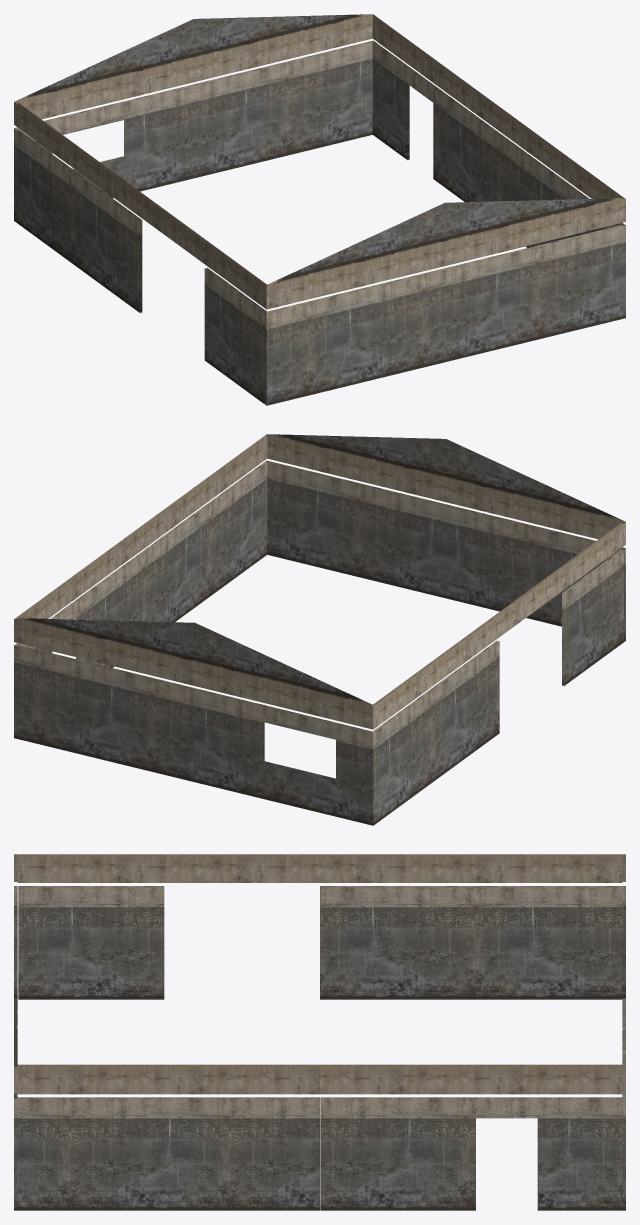
Rendered from stuccobuildinga_id_1_wallstuccob_dm_0_lev1.glb.
The picture shows the model from 3 angles, top to bottom: view 1: azimuth 30°, elevation 25°; view 2: azimuth 150°, elevation 25°; view 3: azimuth 270°, elevation 25°; orthographic projection. The views are drawn at different scales.
Parts seen in each view (by area): view 1: stuccobuildinga_id_1_wallstuccob_dm_0_lev1; view 2: stuccobuildinga_id_1_wallstuccob_dm_0_lev1; view 3: stuccobuildinga_id_1_wallstuccob_dm_0_lev1.
Part boxes in pixels (x1=…): stuccobuildinga_id_1_wallstuccob_dm_0_lev1: x1=14, y1=14, x2=625, y2=405; stuccobuildinga_id_1_wallstuccob_dm_0_lev1: x1=14, y1=434, x2=625, y2=825; stuccobuildinga_id_1_wallstuccob_dm_0_lev1: x1=14, y1=854, x2=625, y2=1210.
Size of the model in its own units: 6.5 by 2.73 by 7.92.
1 material, 1 textured.
